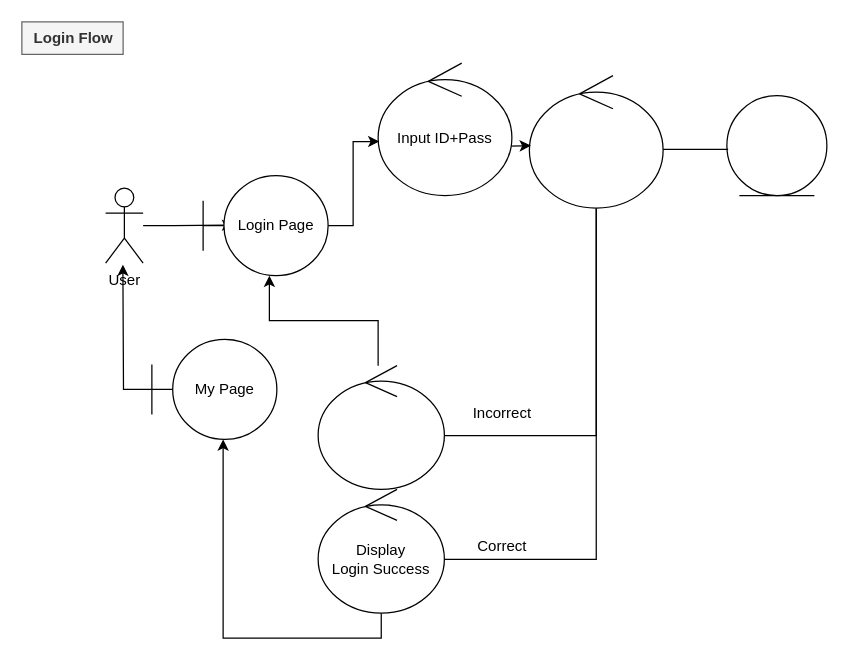
The diagram is 849 pixels wide and 670 high, and some of its shapes have lost their labels. The shapes that lost their labels are listed below. From the top down, each one's centre as x and y in pixels, then its label:
At (x=595, y=141): "Check ID+Pass".
At (x=776, y=145): "User DB".
At (x=380, y=426): "Display Login Failure".
